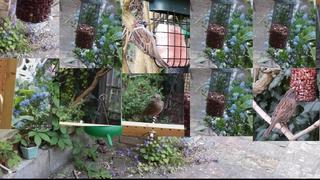dunnock: (263, 88, 300, 137)
sparrow: (131, 20, 170, 70)
starling: (137, 93, 164, 123)
